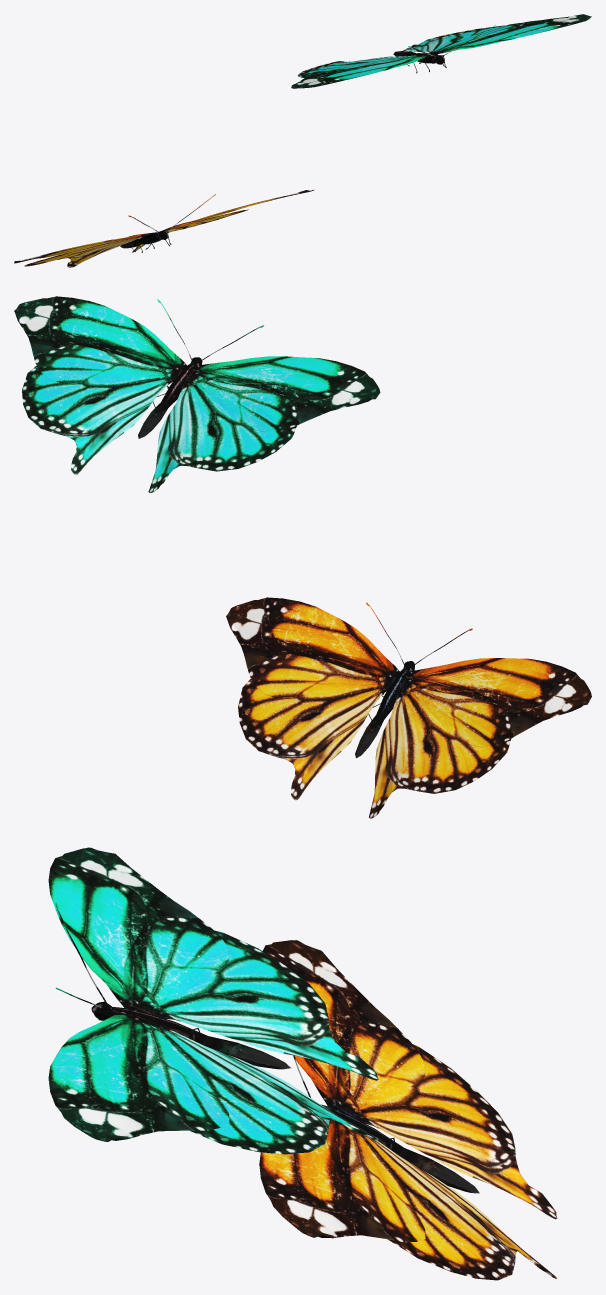
Rendered from butterflies.glb.
3 views of the same model, one above another, from view 1: azimuth 30°, elevation 25°; view 2: azimuth 150°, elevation 25°; view 3: azimuth 270°, elevation 25° (orthographic). The views are drawn at different scales.
Parts seen in each view (by area): view 1: 5, 4, 1, 2, 0, 3; view 2: 2, 5, 1, 4, 0, 3; view 3: 5, 2, 4, 1, 3, 0.
Part boxes in pixels (x1,y1,x2,y2): 5: (291,14,591,88); 4: (298,25,504,77); 1: (24,209,248,267); 2: (14,190,313,263); 0: (120,194,215,252); 3: (393,25,495,73); 2: (226,597,591,747); 5: (14,296,380,432); 1: (238,679,510,818); 4: (22,365,296,492); 0: (355,602,472,758); 3: (138,299,264,438); 5: (48,847,229,1141); 2: (259,940,425,1242); 4: (139,930,378,1154); 1: (343,1044,557,1280); 3: (55,902,290,1069); 0: (293,1055,479,1193).
Bounding box in the file's own units: 300 × 144 × 127.
2 materials, 2 textured.
